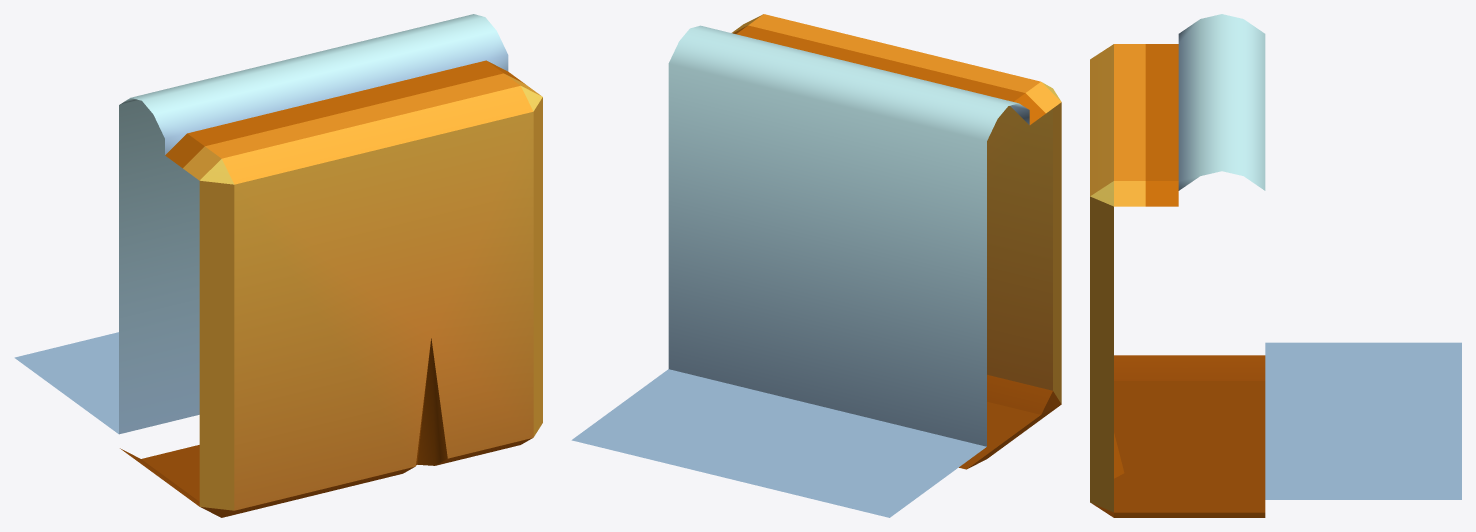
The model's file is pool_1.fbx.
3 renders of one model, left to right at view 1: azimuth 30°, elevation 25°; view 2: azimuth 150°, elevation 25°; view 3: azimuth 270°, elevation 25°, orthographic. The views are drawn at different scales.
Parts seen in each view (by area): view 1: pool_1; view 2: pool_1; view 3: pool_1.
Boxes of the visible parts, x1,y1,x2,y2 form: pool_1: (14, 14, 542, 517); pool_1: (571, 14, 1061, 517); pool_1: (1090, 14, 1461, 517).
Size of the model in its own units: 2 by 2.12 by 2.
